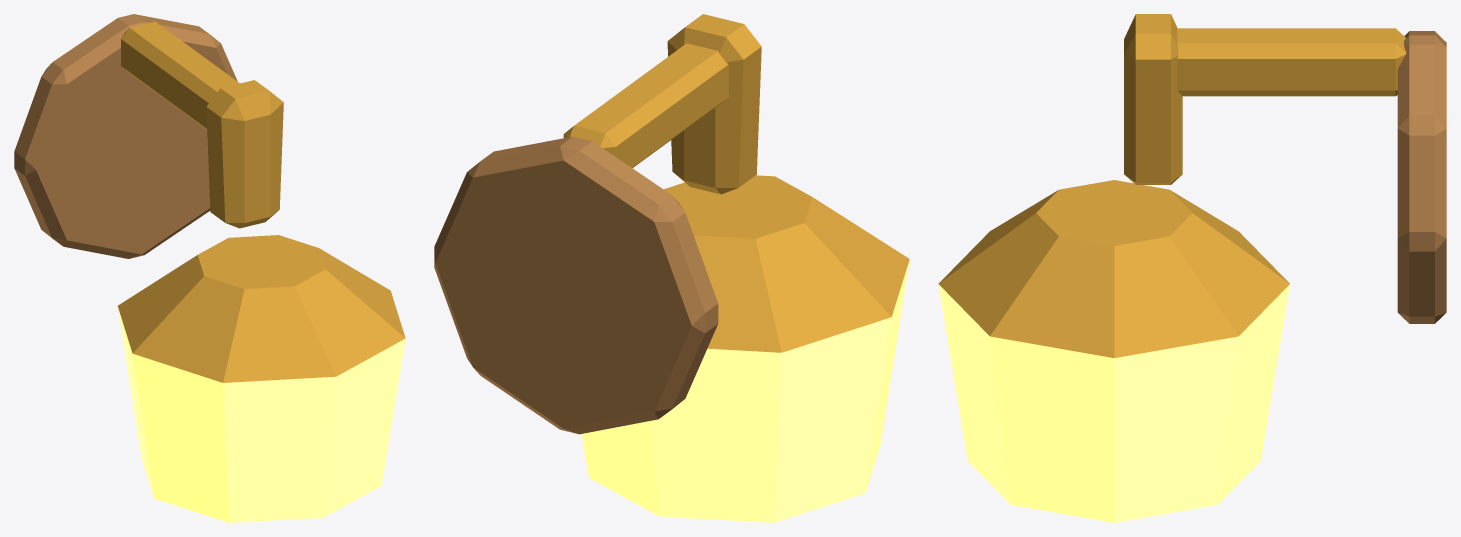
The model's file is wall_sconce.glb.
3 renders of one model, left to right at view 1: azimuth 30°, elevation 25°; view 2: azimuth 150°, elevation 25°; view 3: azimuth 270°, elevation 25°, orthographic. The views are drawn at different scales.
Parts seen in each view (by area): view 1: wall_sconce; view 2: wall_sconce; view 3: wall_sconce.
Boxes of the visible parts, box(x1,y1,x2,y2) form: wall_sconce: box(14, 14, 405, 522); wall_sconce: box(434, 14, 909, 522); wall_sconce: box(938, 14, 1446, 522).
Size of the model in its own units: 0.18 by 0.2468 by 0.26.
